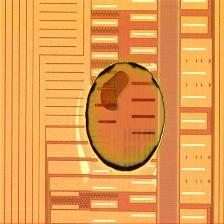PARTICLE: (85, 61, 170, 177)
